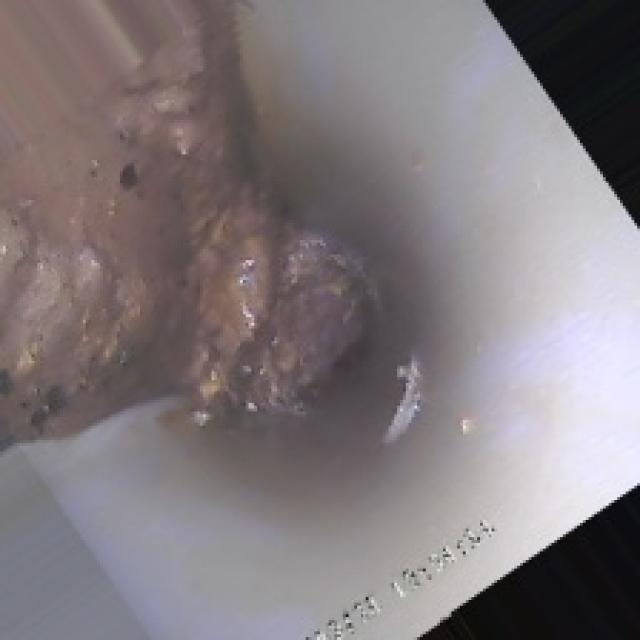sluge accumulation: (20, 17, 357, 417)
